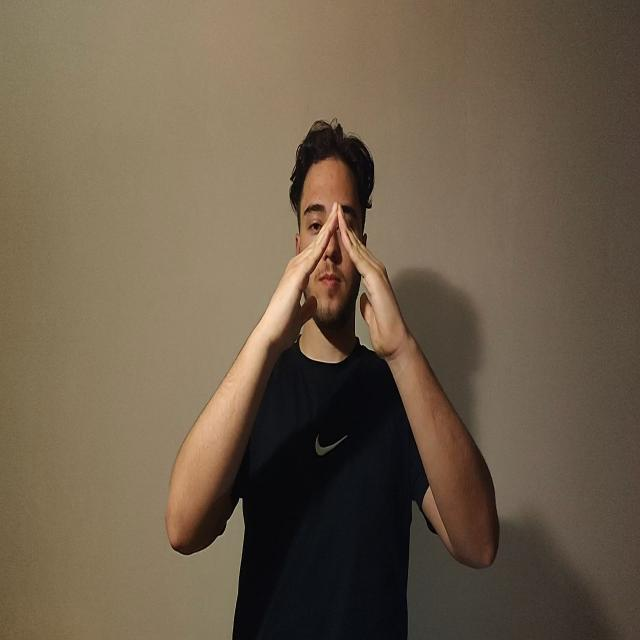house: (258, 202, 401, 359)
